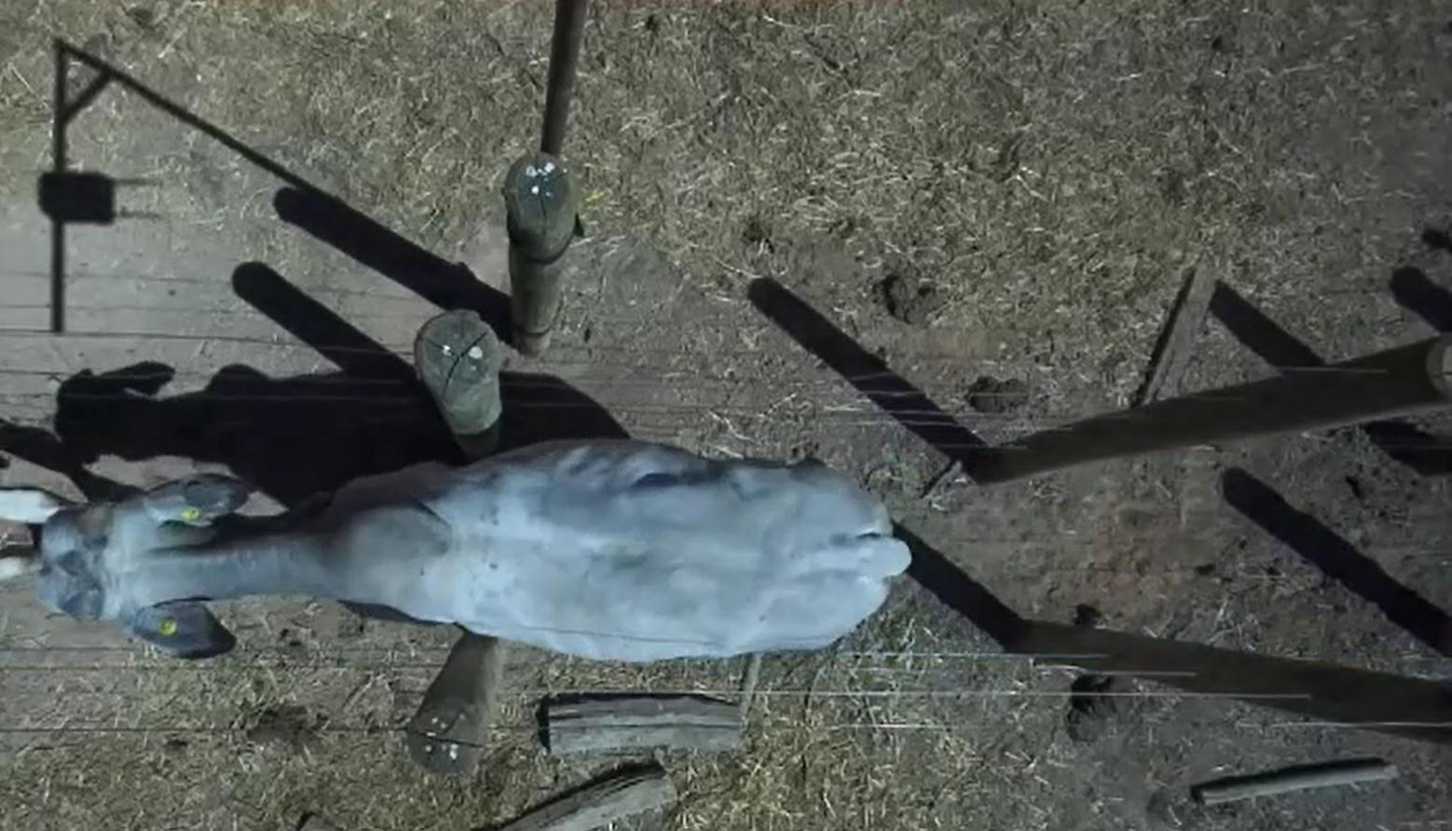cattle: (30, 429, 926, 676)
